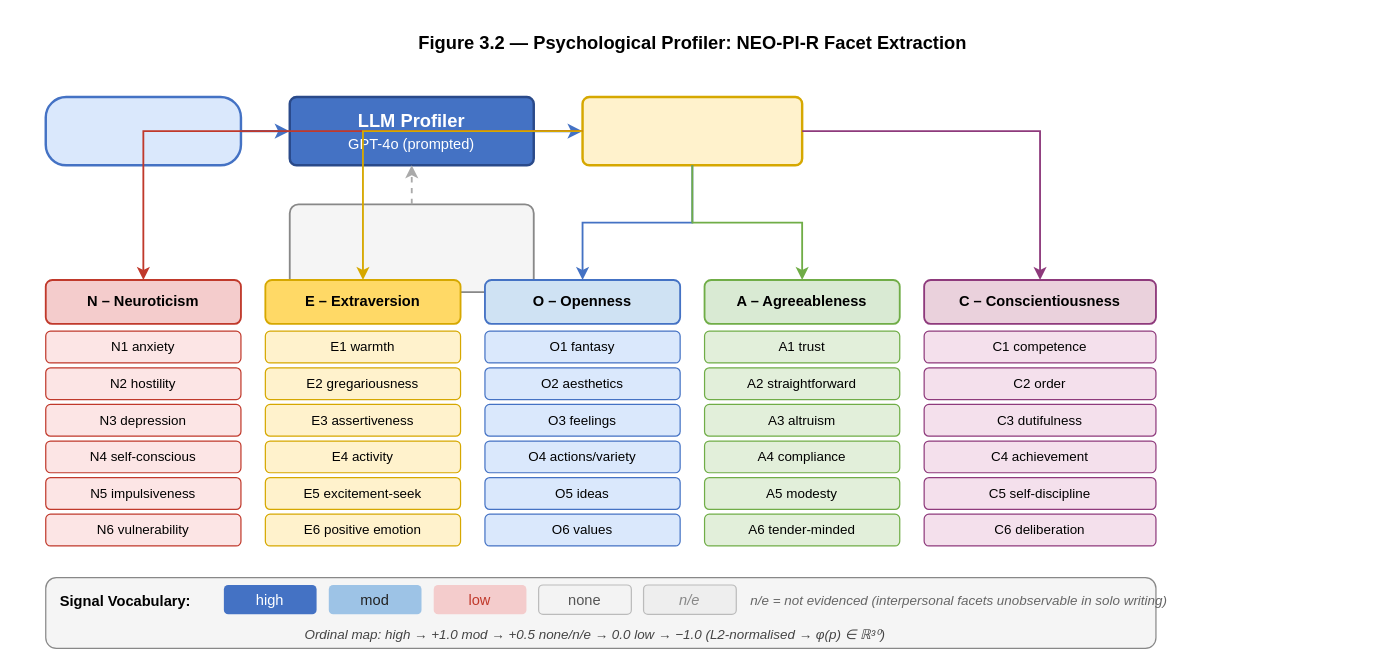
This 1383x670 diagram has some shape labels left out. Each missing label, with the centre of its shape:
30-Facet Profile: (x=692, y=130)
Raw Essay: (x=143, y=130)
System Prompt NEO-PI-R definitions signal vocabulary rules n/e constraint: (x=411, y=248)
